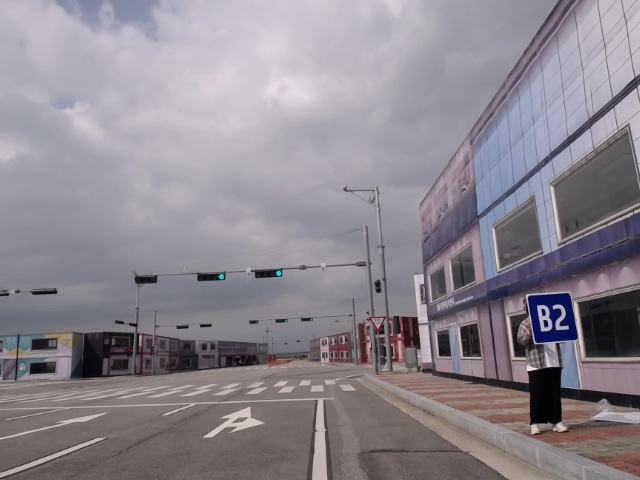delivery_b2: (524, 291, 580, 344)
straight_green_4: (195, 272, 227, 284), (251, 267, 284, 278), (274, 318, 290, 324), (301, 316, 315, 322)
